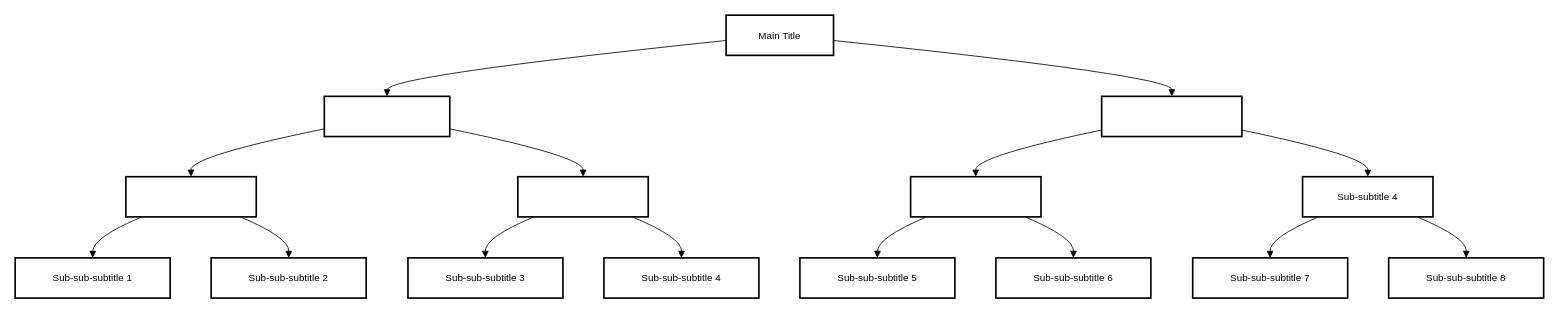
Some shapes in this 1558 by 312 pixel diagram are drawn without their labels. Here are the shapes that lost their labels. From the top down, the centre of each, then its label:
At [386,116]: "First Subtitle".
At [1171,116]: "Second Subtitle".
At [191,196]: "Sub-subtitle 1".
At [583,196]: "Sub-subtitle 2".
At [975,196]: "Sub-subtitle 3".
